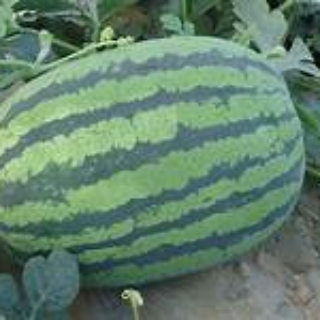dua_hau: (1, 37, 309, 290)
